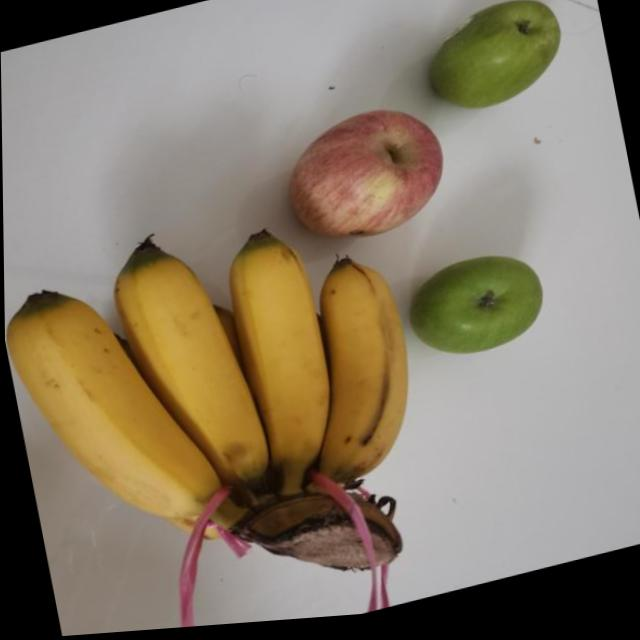Apple: (273, 98, 455, 260), (413, 0, 574, 131), (402, 250, 552, 376)
Banana: (2, 179, 447, 640)
